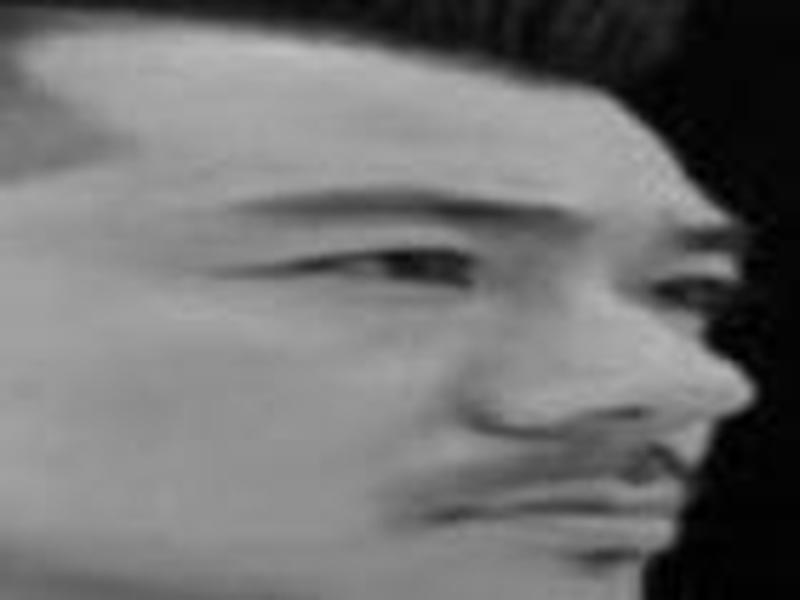without_mask: (8, 8, 754, 600)
